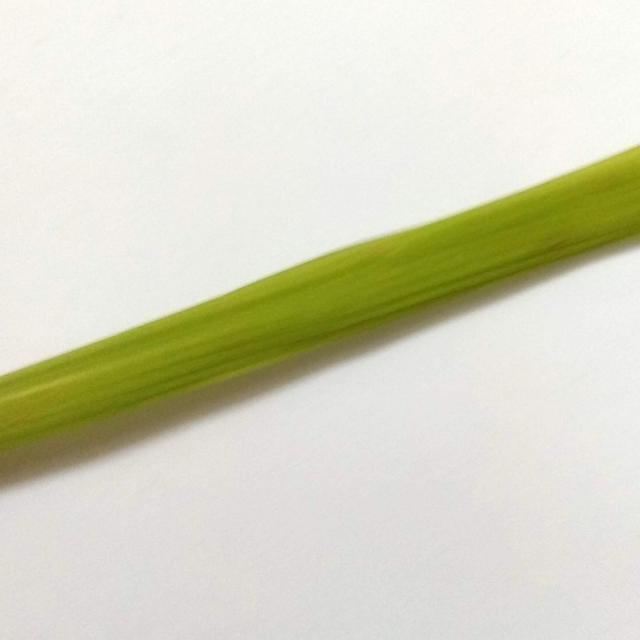healthy: (2, 139, 640, 469)
